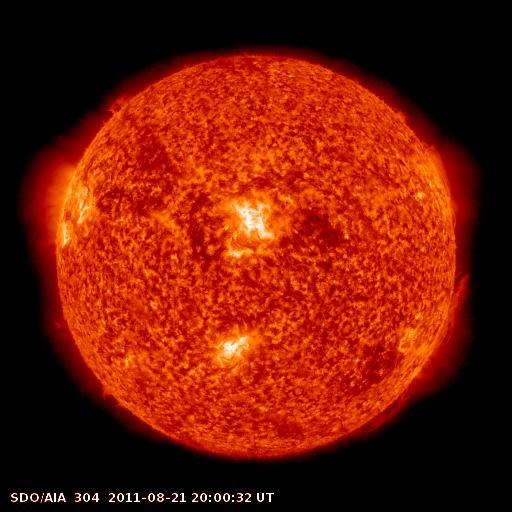prominence: (417, 269, 479, 386), (421, 139, 462, 230), (363, 387, 411, 436), (98, 84, 135, 128), (44, 314, 78, 343), (387, 100, 415, 128)
